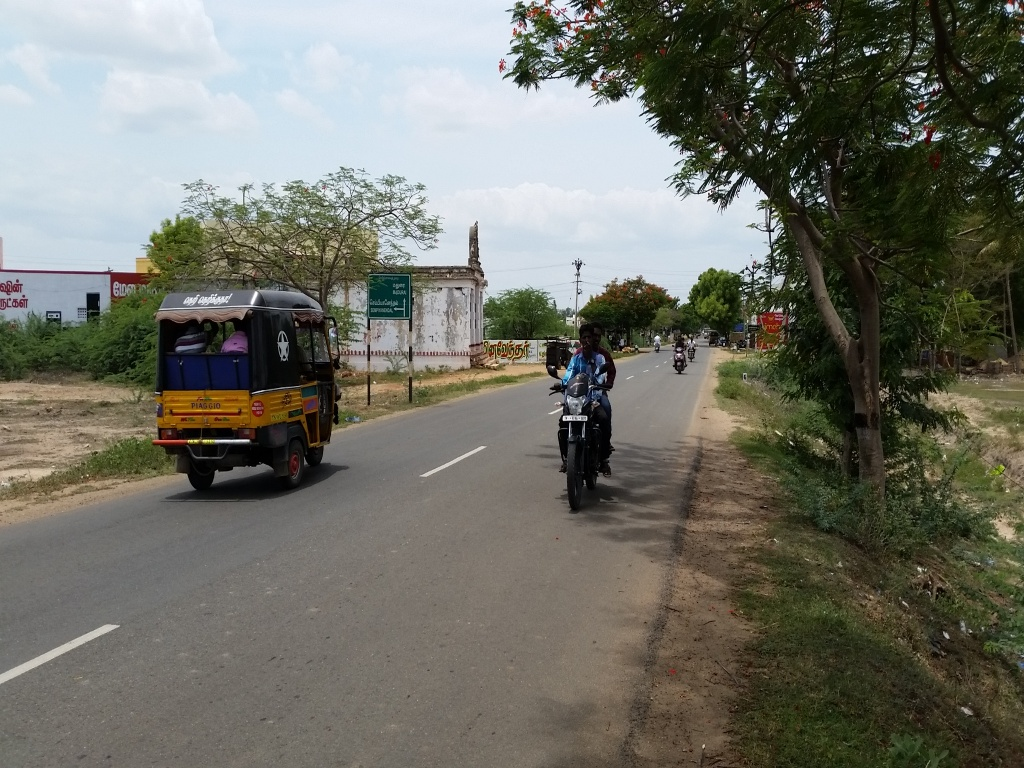biker: (531, 278, 645, 520)
nohelmet: (574, 320, 609, 358)
